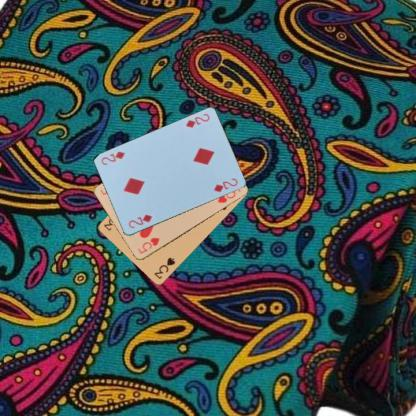2d: (126, 211, 153, 230), (183, 111, 211, 129)
3s: (152, 255, 176, 281)
5h: (134, 235, 160, 255)
